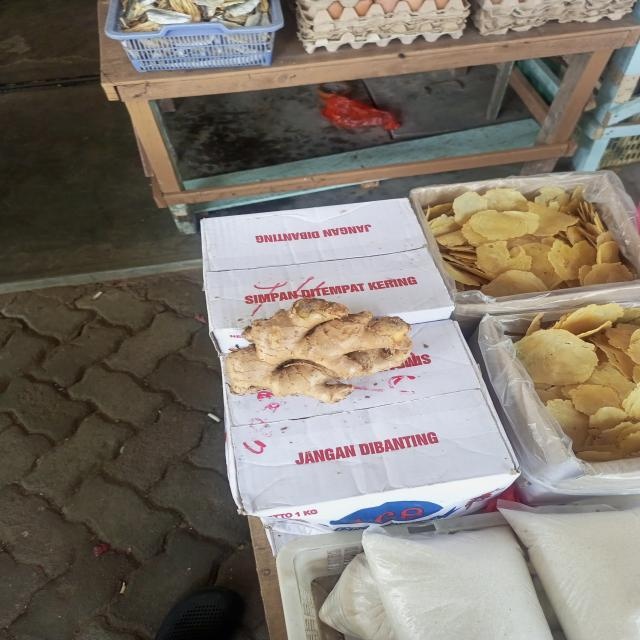ginger: (225, 298, 414, 398)
